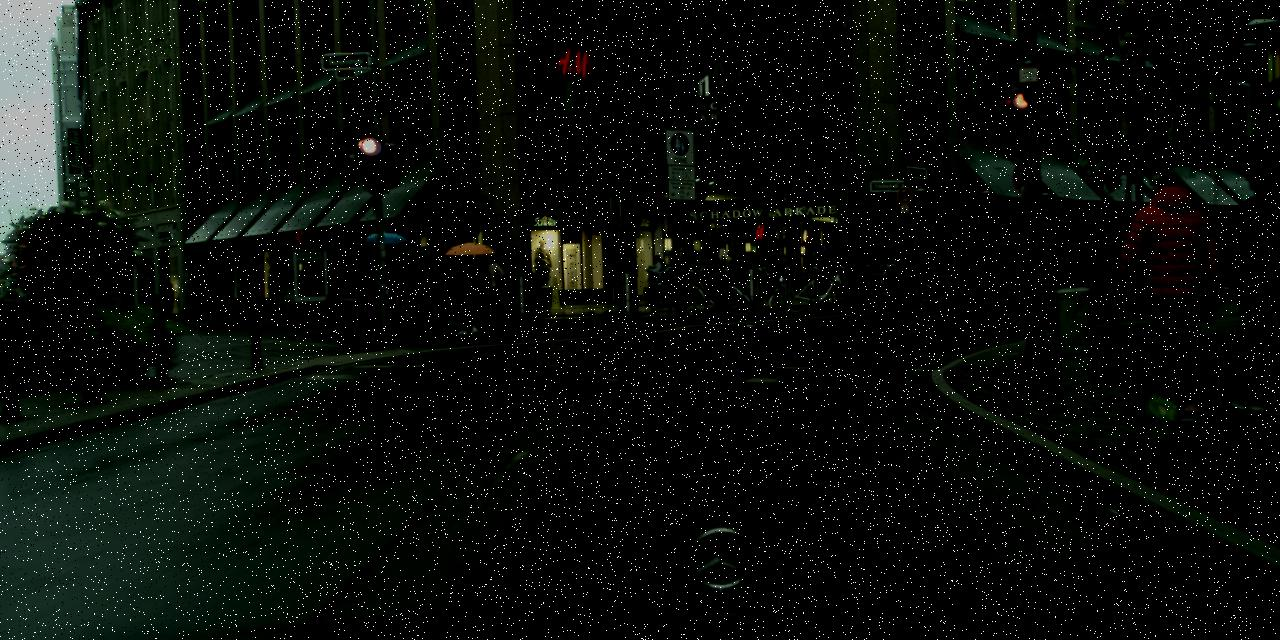ped: (1122, 172, 1226, 424), (1214, 142, 1278, 412), (323, 248, 359, 336), (448, 248, 484, 336), (415, 245, 451, 333), (470, 247, 504, 334), (367, 256, 401, 340), (350, 247, 382, 326), (387, 252, 419, 330), (714, 248, 734, 302), (767, 247, 785, 292), (157, 275, 175, 319), (650, 255, 668, 298), (184, 274, 202, 316), (200, 276, 216, 316), (139, 278, 154, 318)
